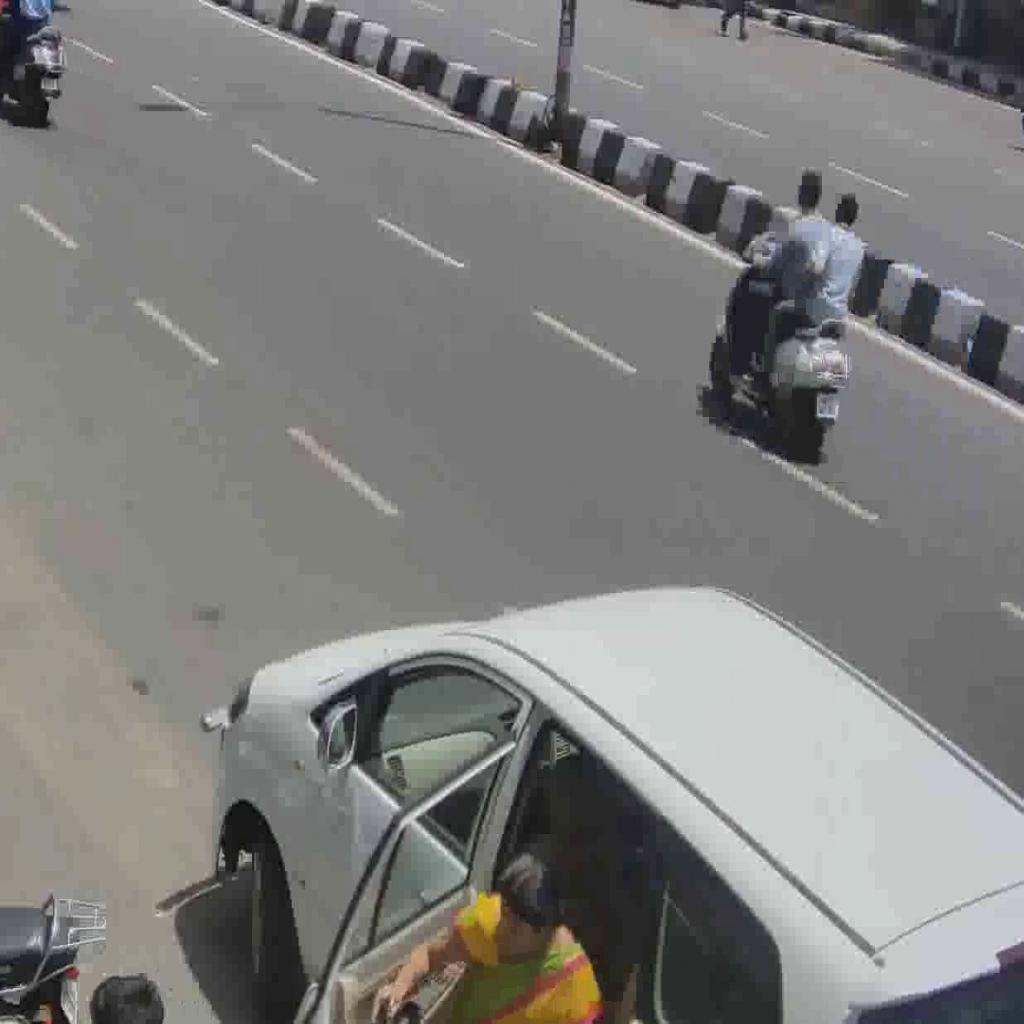helmet: (708, 228, 852, 460), (0, 16, 68, 129)
